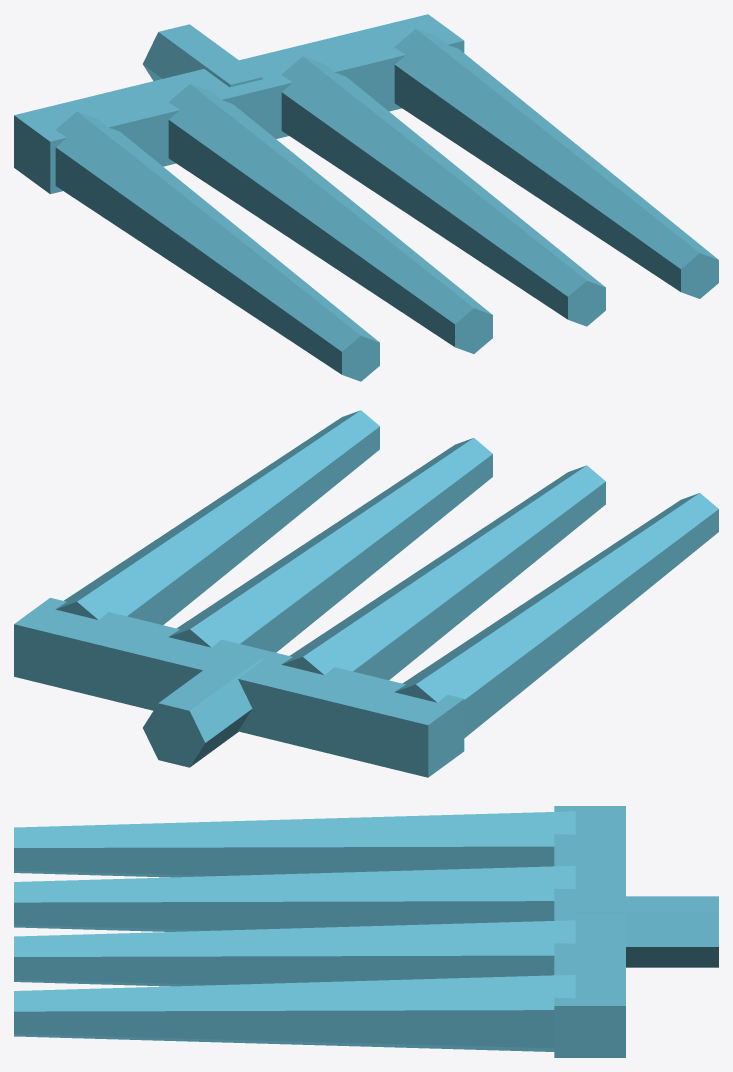
File: blade-fist.glb
3 views of the same model, one above another, from view 1: azimuth 30°, elevation 25°; view 2: azimuth 150°, elevation 25°; view 3: azimuth 270°, elevation 25° (orthographic).
Visible parts, largest first — view 1: m; view 2: m; view 3: m.
Boxes of the visible parts, x1=… form: m: x1=14, y1=14, x2=718, y2=381; m: x1=14, y1=410, x2=718, y2=777; m: x1=14, y1=806, x2=718, y2=1057.
Bounding box in the file's own units: 0.0552 × 0.01 × 0.0823.
